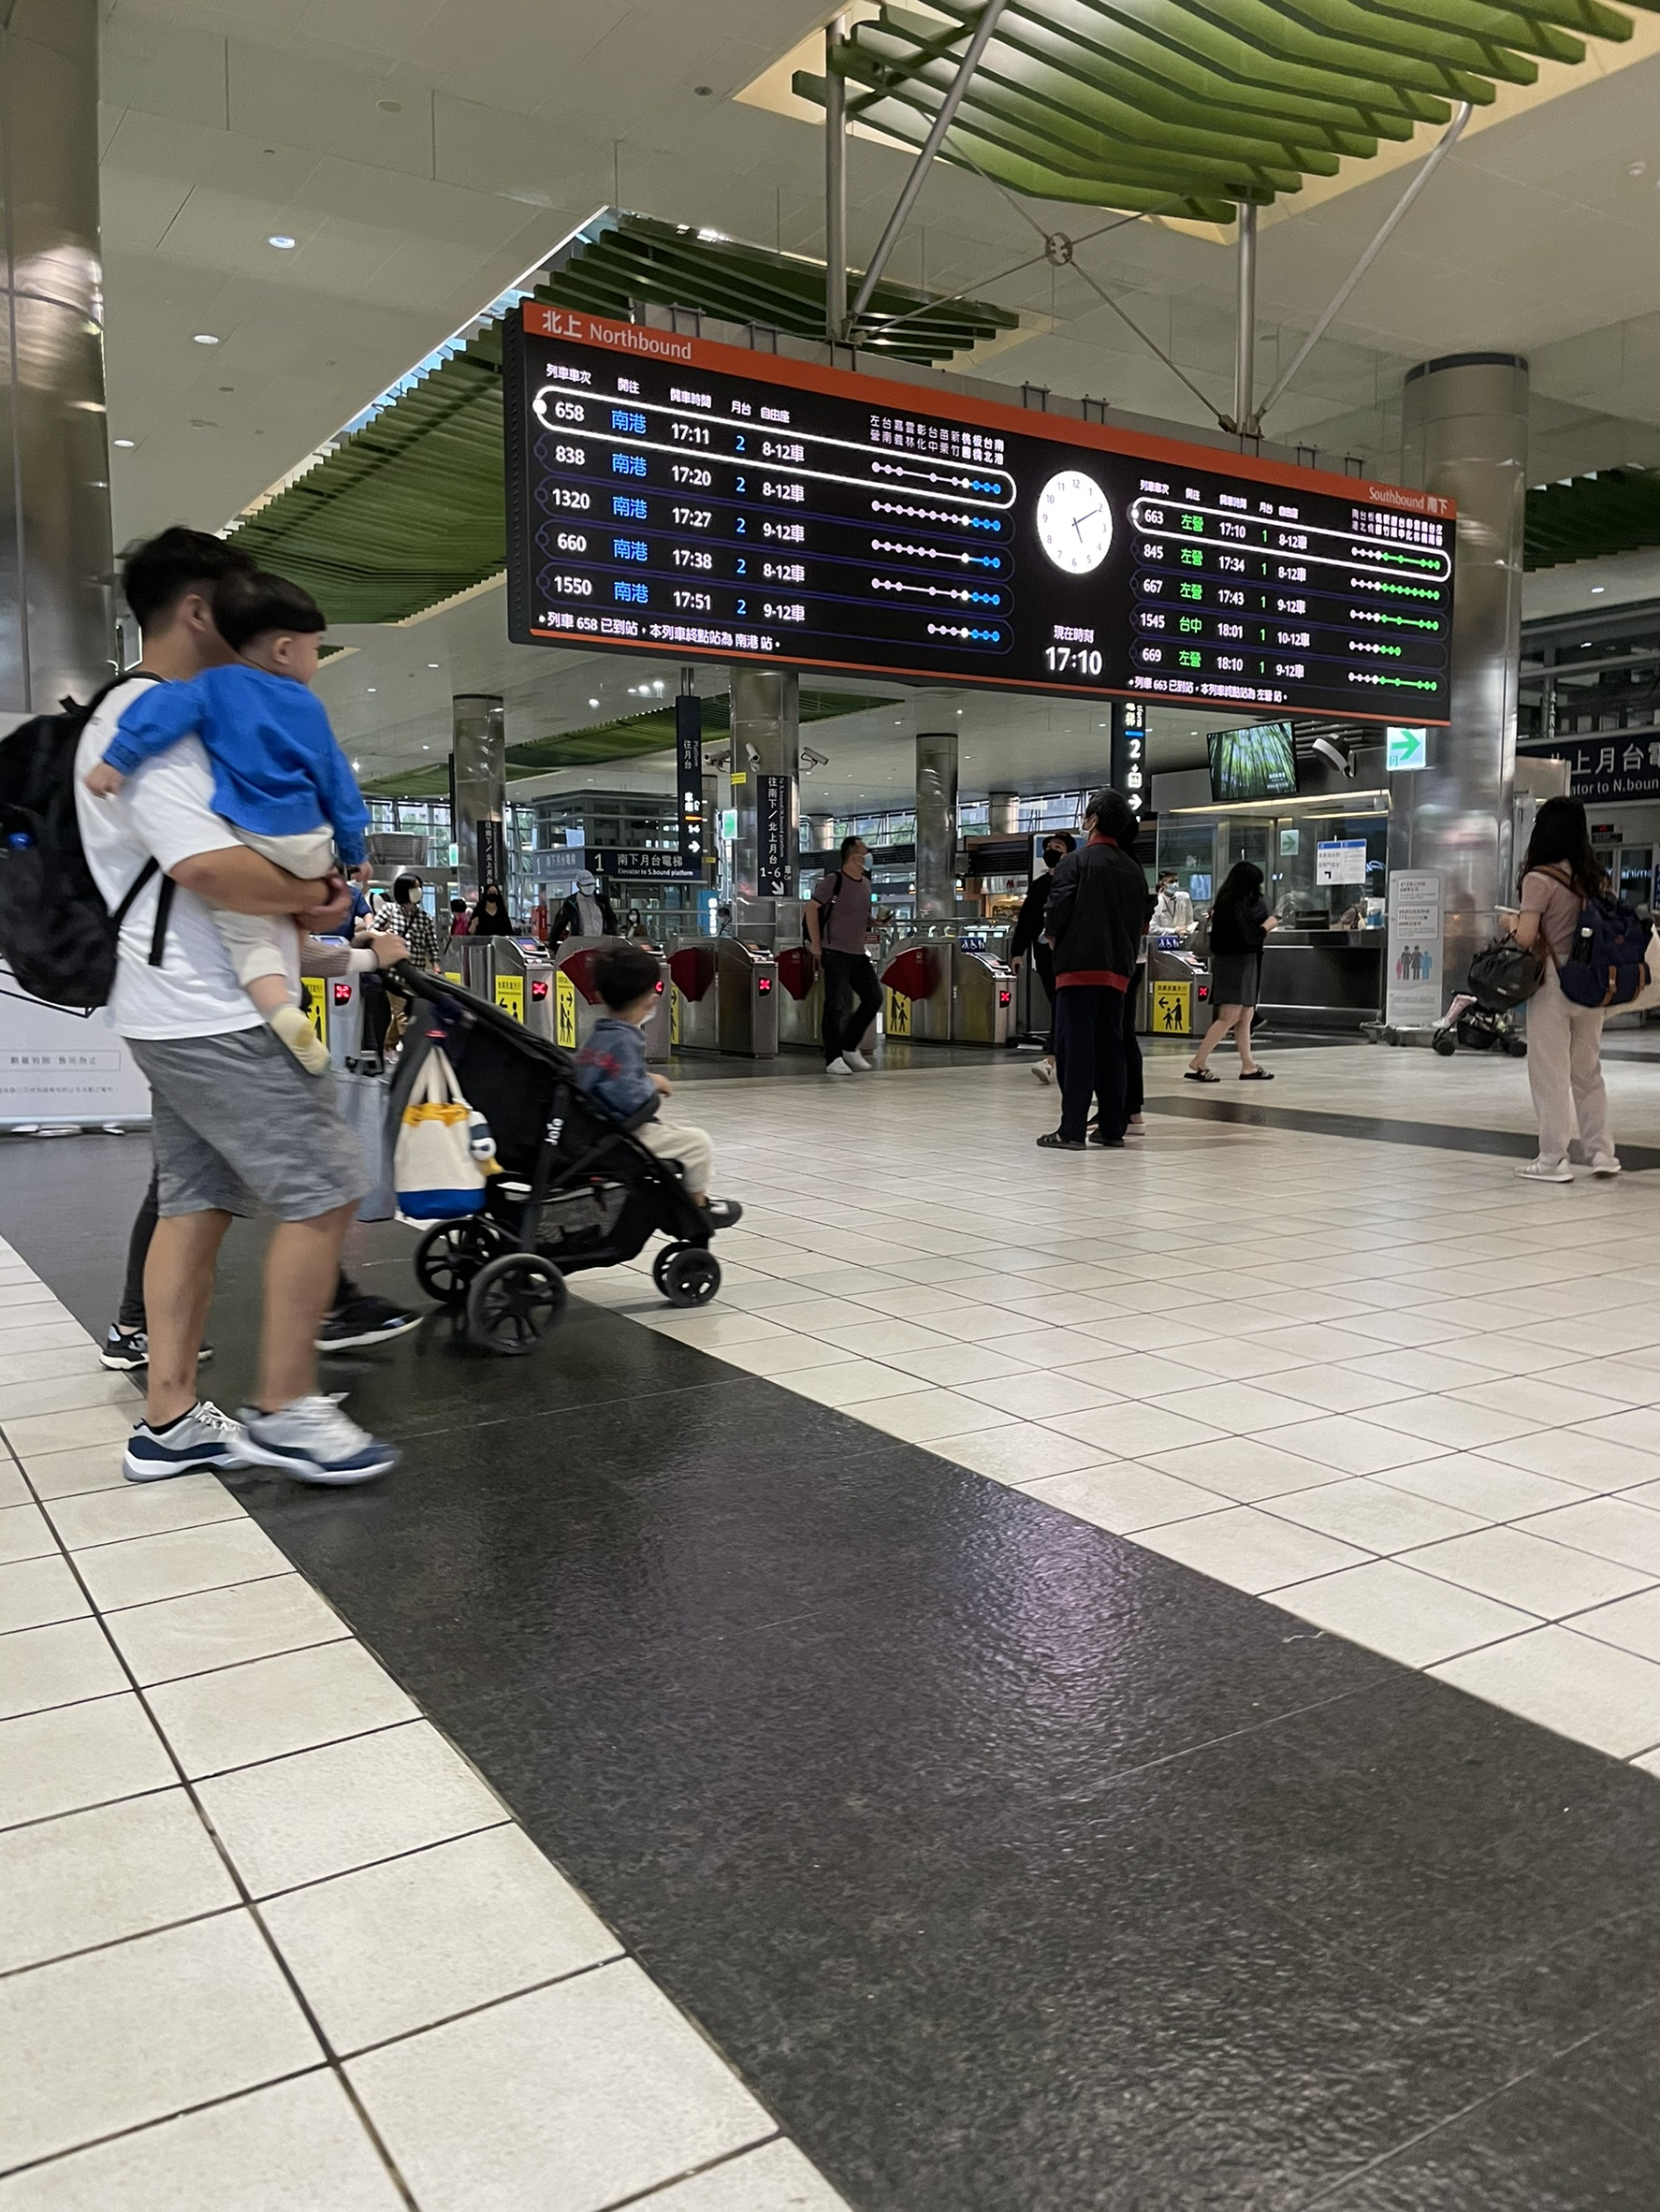people: (76, 524, 406, 1489), (187, 567, 381, 1071), (1493, 793, 1638, 1179), (558, 945, 752, 1230), (1043, 801, 1148, 1150), (1008, 830, 1090, 1082), (1187, 863, 1277, 1089), (802, 837, 885, 1074), (385, 873, 450, 959), (1144, 869, 1180, 924), (443, 891, 474, 945)
